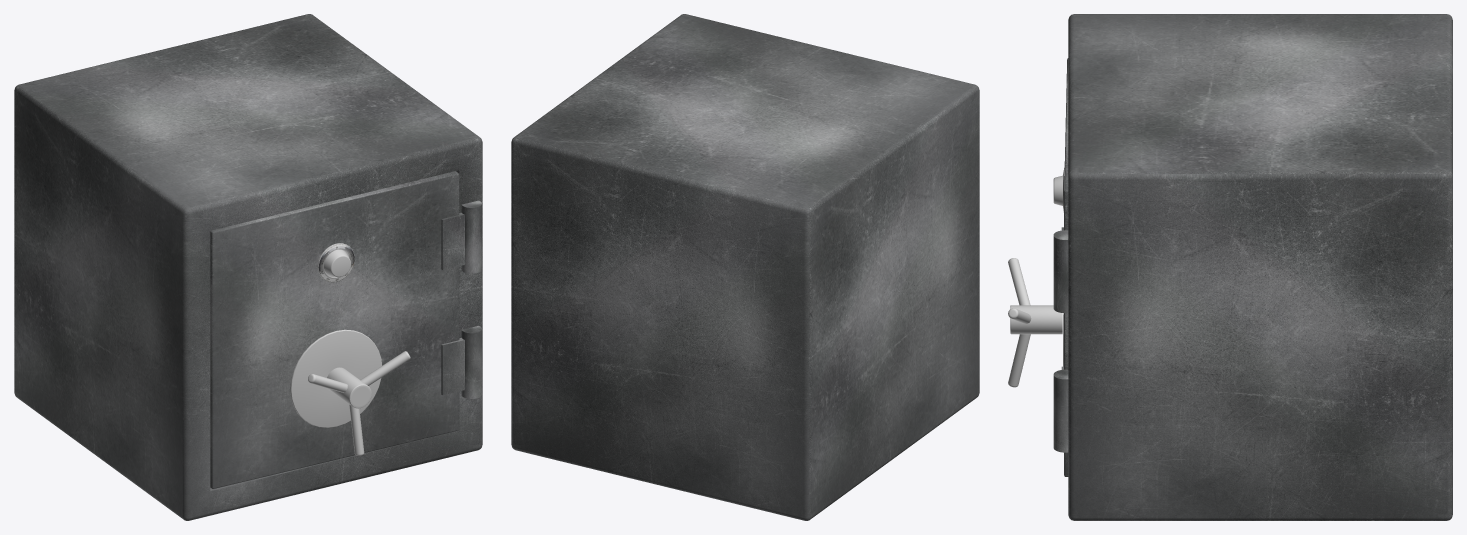
The model's file is Vault.fbx.
3 views of the same model, side by side, from view 1: azimuth 30°, elevation 25°; view 2: azimuth 150°, elevation 25°; view 3: azimuth 270°, elevation 25° (orthographic). The views are drawn at different scales.
Parts seen in each view (by area): view 1: Body Of Vault, Door Of Vault.002, Door Of Vault.001; view 2: Body Of Vault; view 3: Body Of Vault, Door Of Vault.002, Door Of Vault.001.
Boxes of the visible parts, box(x1,y1,x2,y2) form: Body Of Vault: box(14, 14, 482, 520); Door Of Vault.002: box(210, 171, 481, 488); Door Of Vault.001: box(308, 351, 410, 455); Body Of Vault: box(511, 14, 979, 520); Body Of Vault: box(1068, 14, 1452, 520); Door Of Vault.002: box(1053, 58, 1068, 476); Door Of Vault.001: box(1008, 258, 1062, 387).
Size of the model in its own units: 100 by 100 by 116.
3 materials, 2 textured.
